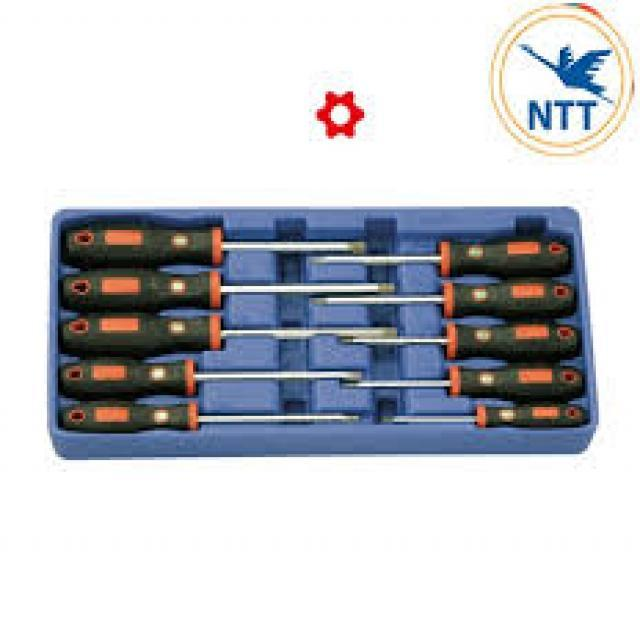screwdriver: (58, 310, 403, 360), (58, 268, 403, 312), (57, 223, 390, 267), (59, 358, 363, 400), (306, 232, 574, 278), (307, 276, 578, 318), (331, 318, 582, 362), (334, 361, 585, 403), (61, 400, 364, 432), (376, 402, 592, 432)
